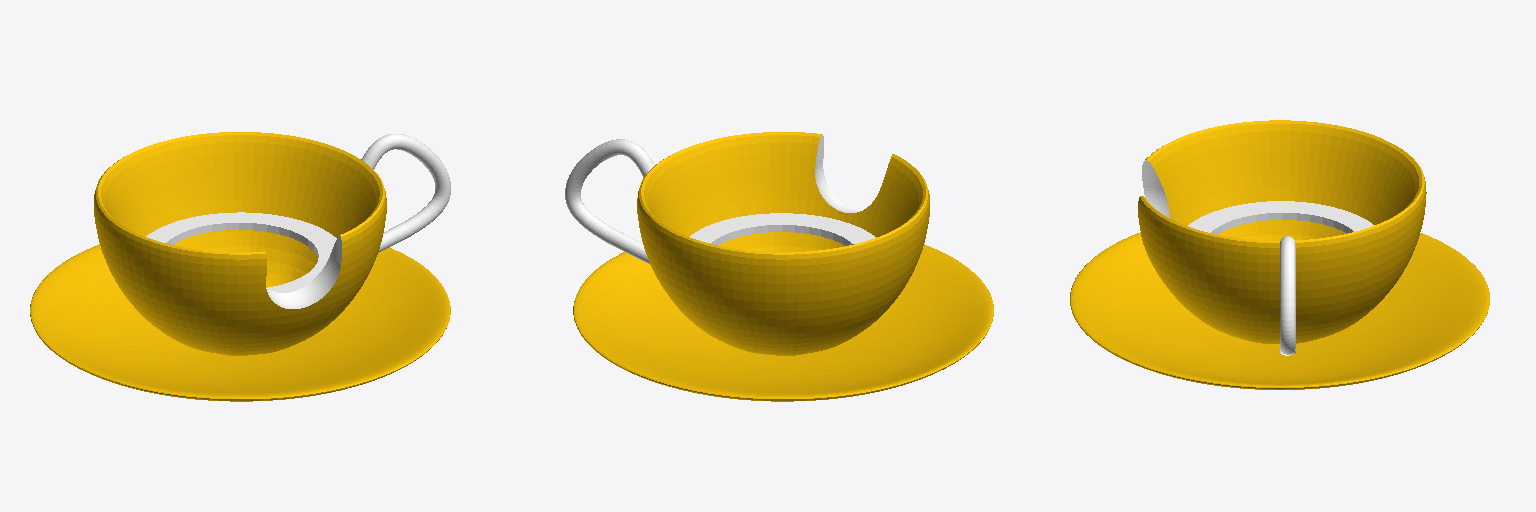
3 views of the same model, side by side, from view 1: azimuth 30°, elevation 25°; view 2: azimuth 150°, elevation 25°; view 3: azimuth 270°, elevation 25° (orthographic).
Visible parts, largest first — view 1: Ride_Surface_Teacup_2_Subdivision_Surface_1_Sphere3.000_Ride_Sur, Ride_Surface_Teacup_2_Sweep6.000_Ride_Surface_Teacup_2_Sweep6.00; view 2: Ride_Surface_Teacup_2_Subdivision_Surface_1_Sphere3.000_Ride_Sur, Ride_Surface_Teacup_2_Sweep6.000_Ride_Surface_Teacup_2_Sweep6.00; view 3: Ride_Surface_Teacup_2_Subdivision_Surface_1_Sphere3.000_Ride_Sur, Ride_Surface_Teacup_2_Sweep6.000_Ride_Surface_Teacup_2_Sweep6.00.
Boxes of the visible parts, x1,y1,x2,y2 form: Ride_Surface_Teacup_2_Subdivision_Surface_1_Sphere3.000_Ride_Sur: [30, 132, 450, 401]; Ride_Surface_Teacup_2_Sweep6.000_Ride_Surface_Teacup_2_Sweep6.00: [146, 134, 450, 308]; Ride_Surface_Teacup_2_Subdivision_Surface_1_Sphere3.000_Ride_Sur: [573, 132, 993, 401]; Ride_Surface_Teacup_2_Sweep6.000_Ride_Surface_Teacup_2_Sweep6.00: [565, 134, 875, 263]; Ride_Surface_Teacup_2_Subdivision_Surface_1_Sphere3.000_Ride_Sur: [1070, 120, 1489, 389]; Ride_Surface_Teacup_2_Sweep6.000_Ride_Surface_Teacup_2_Sweep6.00: [1142, 160, 1374, 355].
Size of the model in its own units: 5.9 by 2.41 by 5.42.
Materials: 2 (1 with a texture image).